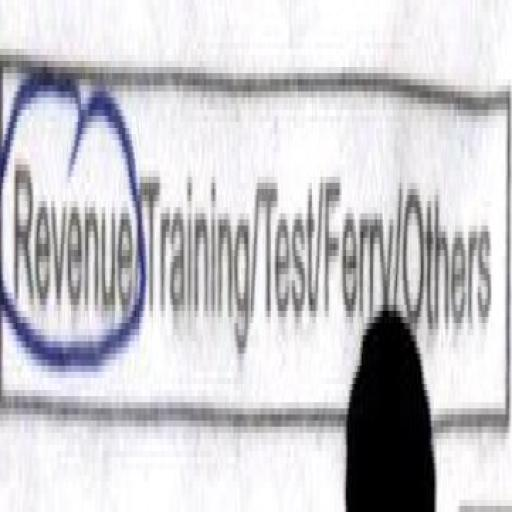check: (0, 6, 139, 457)
